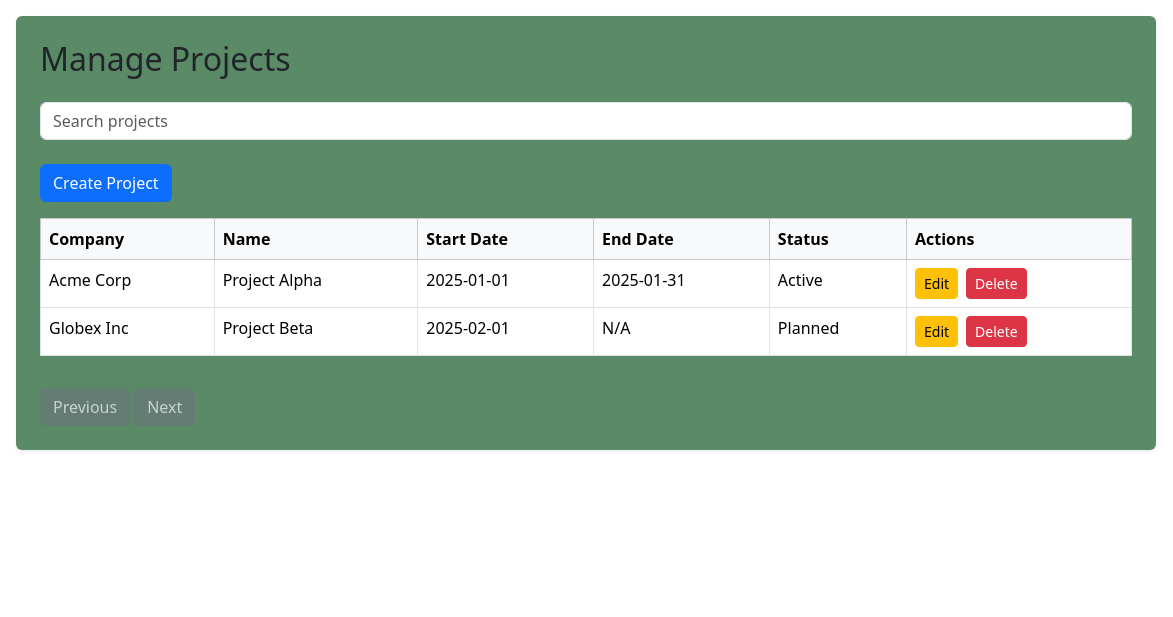
it: ManageProjects Page › opens create form when Create Project clicked
Expected: the text "Project Alpha" is shown, left=214, top=260, right=418, bottom=308
Click the button "Create Project": (106, 183) left=40, top=164, right=172, bottom=202
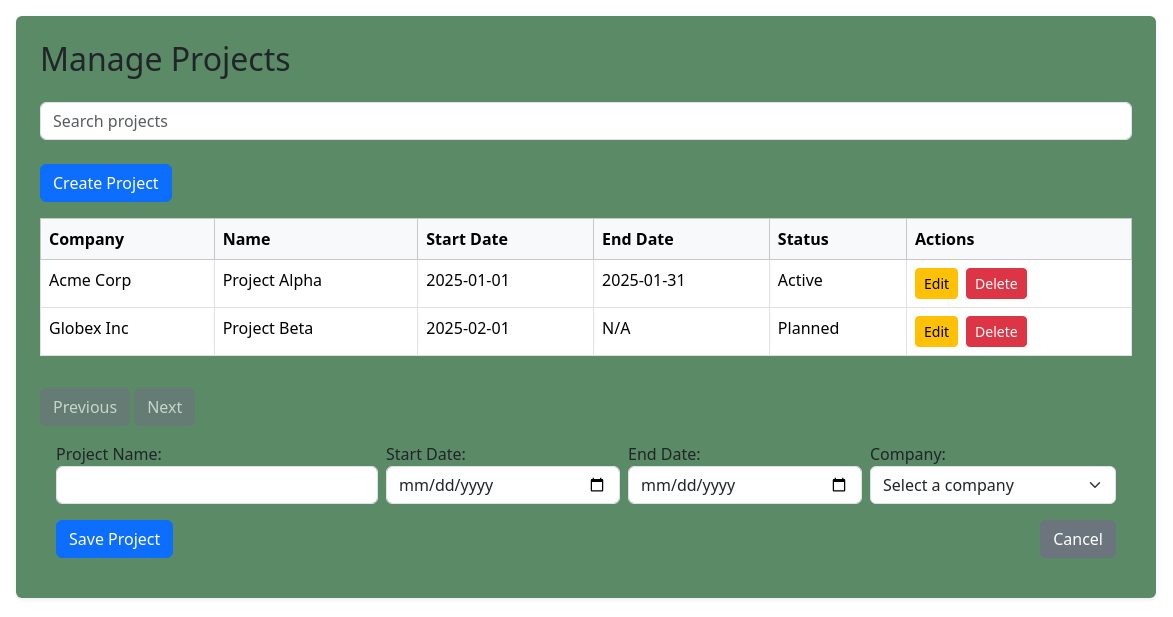
Expected: the field labelled "Project Name:" is shown, left=56, top=466, right=378, bottom=504
